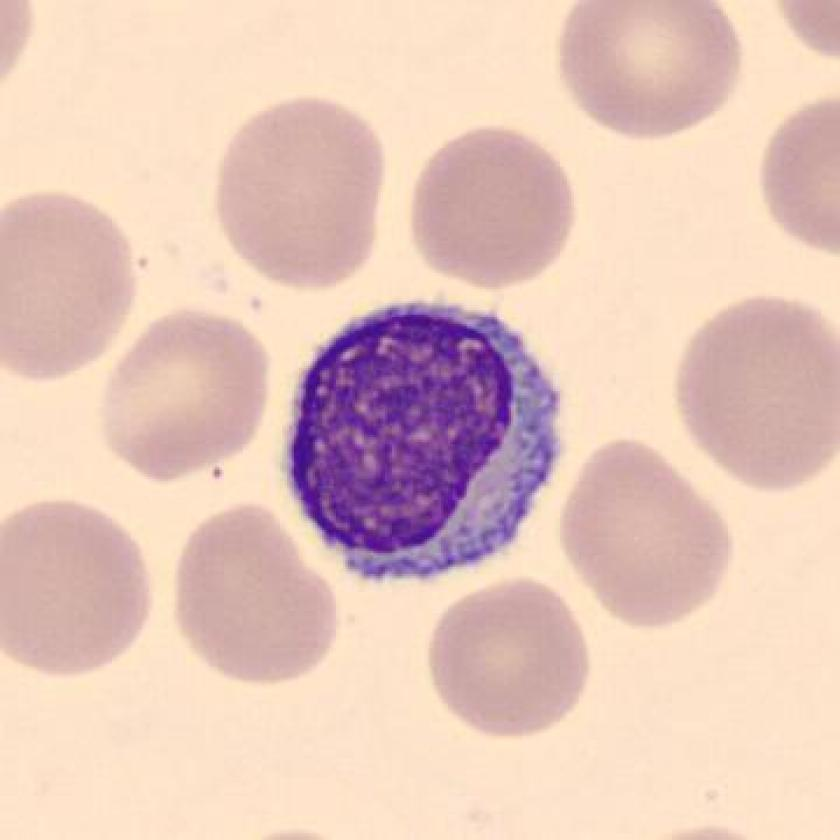lymphocyte: (258, 297, 580, 607)
